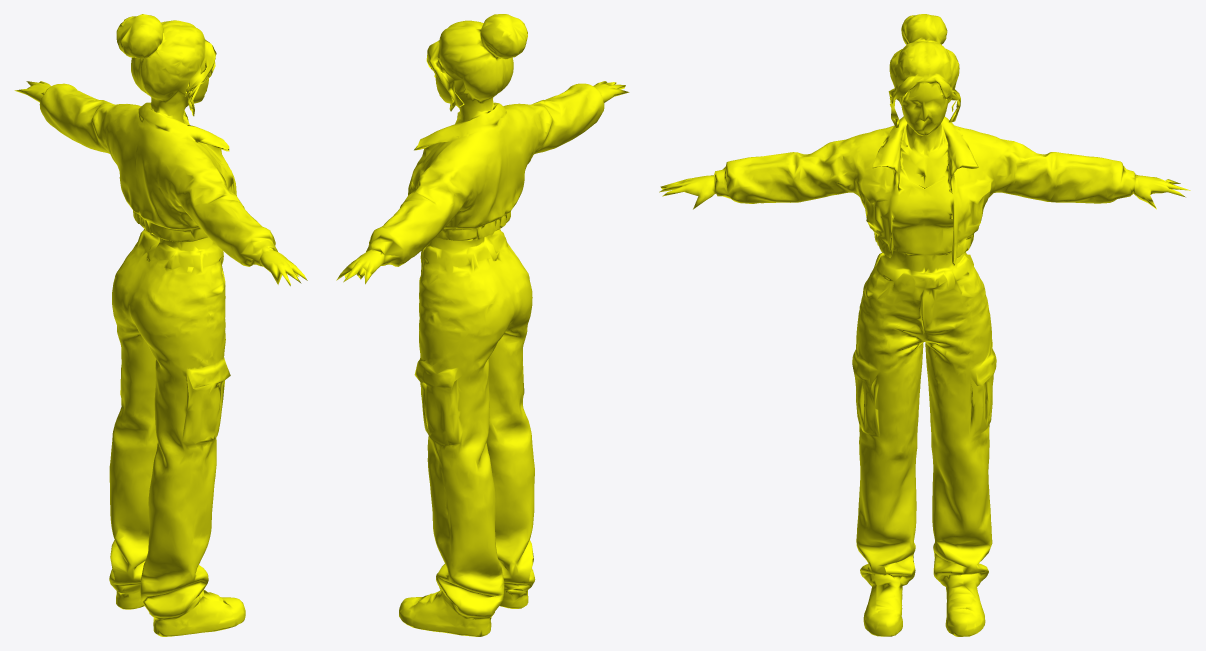
Rendered from Woman_01.glb.
The picture shows the model from 3 angles, left to right: view 1: azimuth 30°, elevation 25°; view 2: azimuth 150°, elevation 25°; view 3: azimuth 270°, elevation 25°; orthographic projection. The views are drawn at different scales.
Visible parts, largest first — view 1: Woman_01; view 2: Woman_01; view 3: Woman_01.
Part boxes in pixels (x1=…): Woman_01: x1=14, y1=14, x2=307, y2=636; Woman_01: x1=336, y1=14, x2=629, y2=636; Woman_01: x1=659, y1=14, x2=1190, y2=636.
Bounding box in the file's own units: 0.1816 × 0.9997 × 0.8249.
